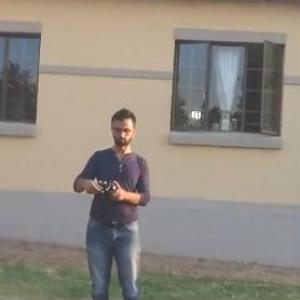follow: (69, 102, 155, 299)
